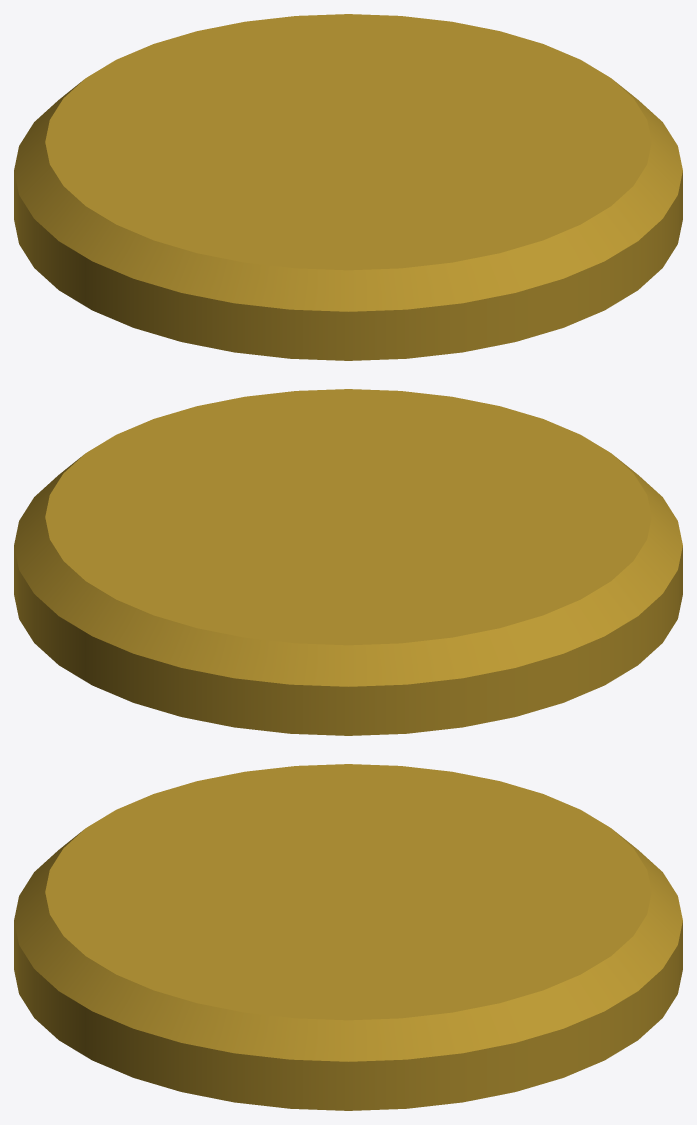
The model's file is Pedestal.fbx.
The picture shows the model from 3 angles, top to bottom: view 1: azimuth 30°, elevation 25°; view 2: azimuth 150°, elevation 25°; view 3: azimuth 270°, elevation 25°; orthographic projection.
Visible parts, largest first — view 1: Cylinder; view 2: Cylinder; view 3: Cylinder.
Boxes of the visible parts, x1,y1,x2,y2 form: Cylinder: [14, 14, 682, 360]; Cylinder: [14, 389, 682, 735]; Cylinder: [14, 764, 682, 1110].
Size of the model in its own units: 57.99 by 7.41 by 57.99.
